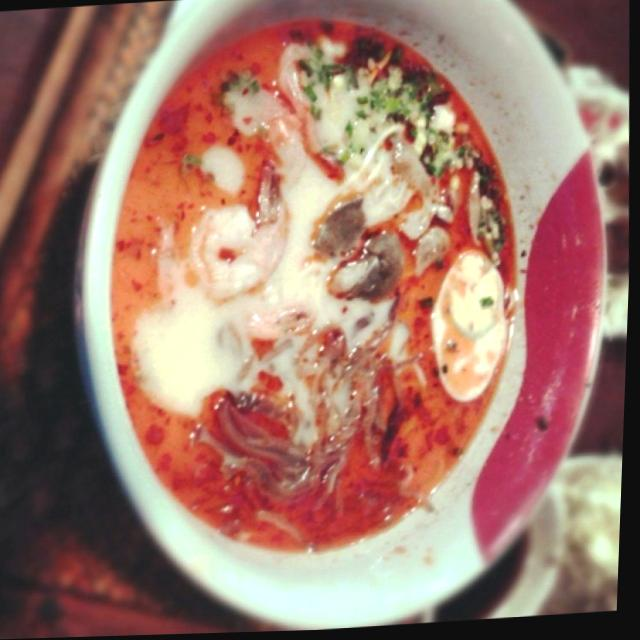汤锅炖物: (45, 0, 620, 639)
